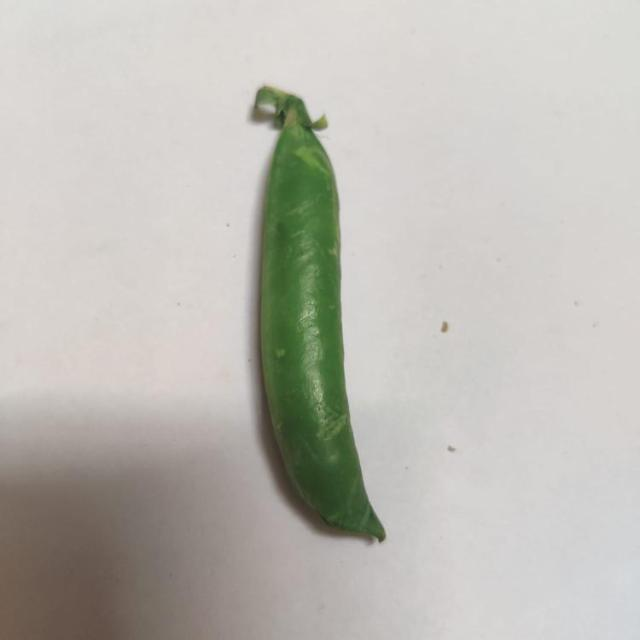Organik: (253, 87, 393, 544)
